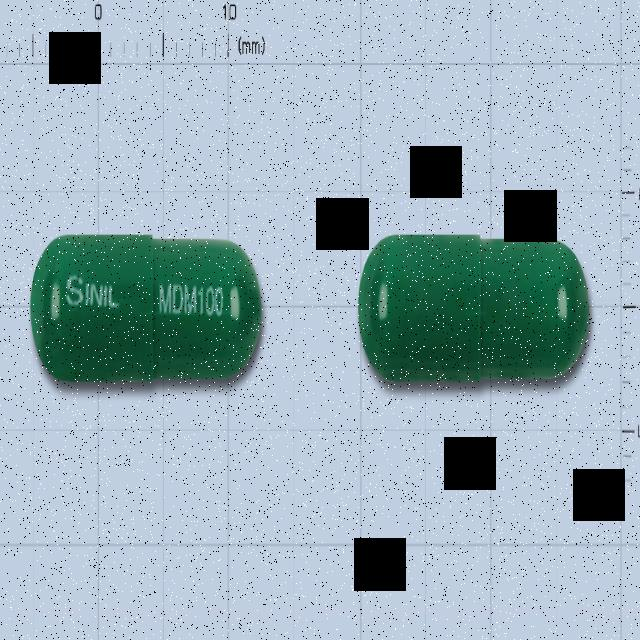Monodoxy-M Cap- Sinil: (30, 235, 262, 390)
